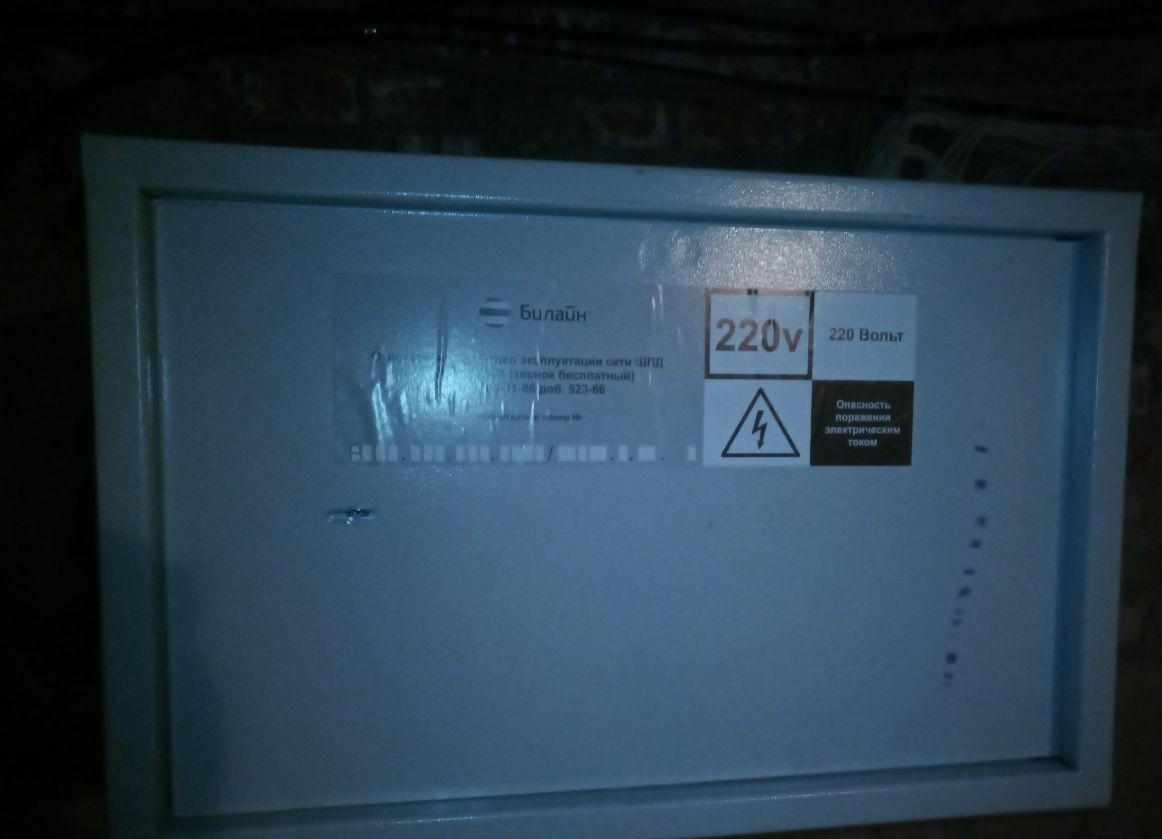shta-7m: (70, 132, 1148, 834)
